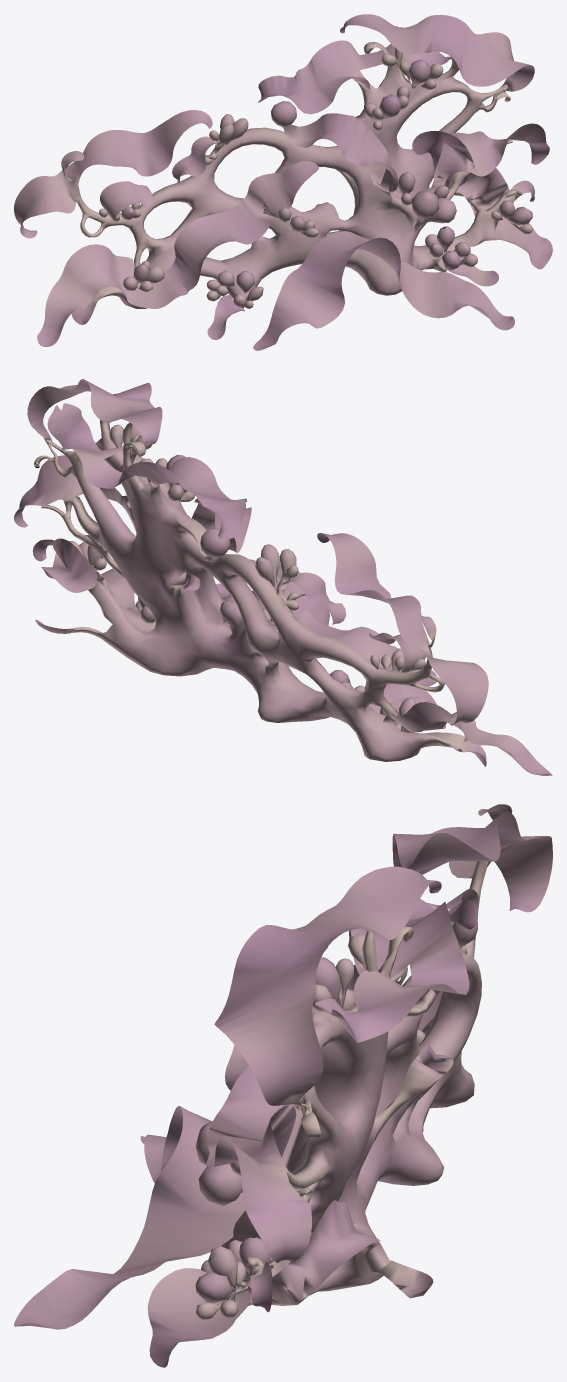
The model's file is frontleftthree.glb.
3 renders of one model, top to bottom at view 1: azimuth 30°, elevation 25°; view 2: azimuth 150°, elevation 25°; view 3: azimuth 270°, elevation 25°, orthographic. The views are drawn at different scales.
Parts seen in each view (by area): view 1: NEW_V18__ribbon-shrub; view 2: NEW_V18__ribbon-shrub; view 3: NEW_V18__ribbon-shrub.
Part boxes in pixels (x1,y1,x2,y2): NEW_V18__ribbon-shrub: [14, 14, 552, 350]; NEW_V18__ribbon-shrub: [14, 379, 552, 775]; NEW_V18__ribbon-shrub: [14, 804, 552, 1367].
Bounding box in the file's own units: 3.75 × 1.77 × 2.05.
Materials: 1 (1 with a texture image).
